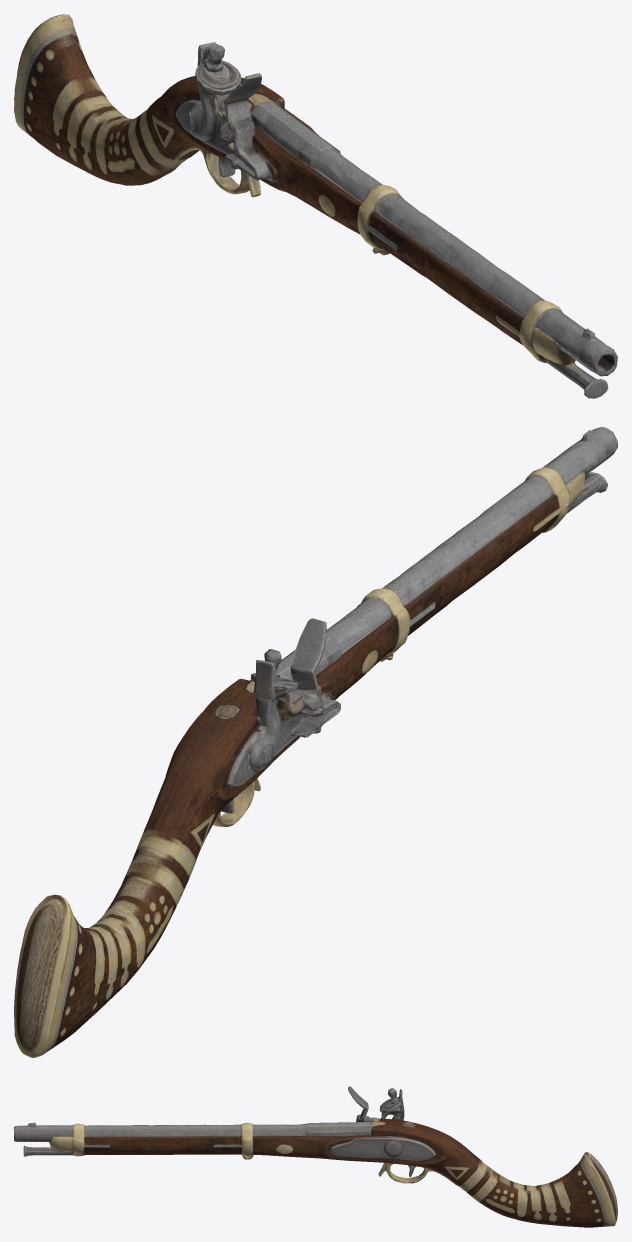
File: flintlock_pistol.medium.glb
3 renders of one model, top to bottom at view 1: azimuth 30°, elevation 25°; view 2: azimuth 150°, elevation 25°; view 3: azimuth 270°, elevation 25°, orthographic. The views are drawn at different scales.
Visible parts, largest first — view 1: mesh_node; view 2: mesh_node; view 3: mesh_node.
Part boxes in pixels (x1,y1,x2,y2): mesh_node: [14, 14, 617, 398]; mesh_node: [14, 427, 617, 1057]; mesh_node: [14, 1086, 617, 1227].
Size of the model in its own units: 0.0459 by 0.1345 by 0.56.
1 material, 1 textured.
